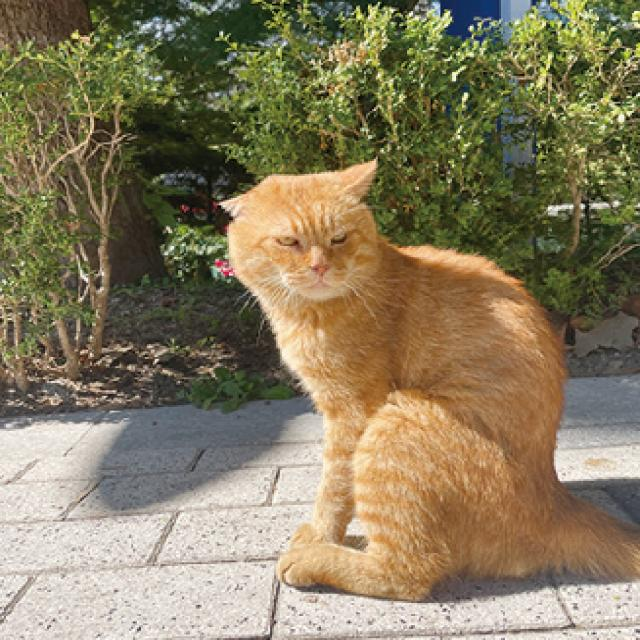cat: (210, 159, 640, 630)
